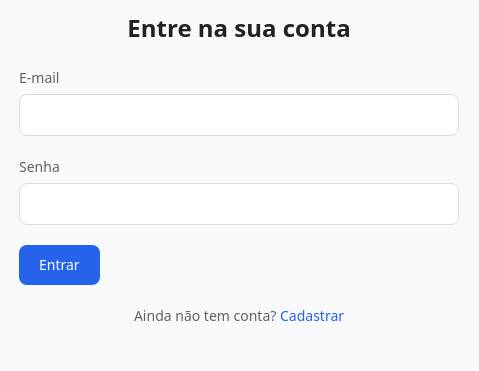
it: LoginForm › shows error on invalid credentials
Type "john@test.com" into the field labelled "E-mail" at {"x": 239, "y": 115}, box [19, 94, 459, 136]
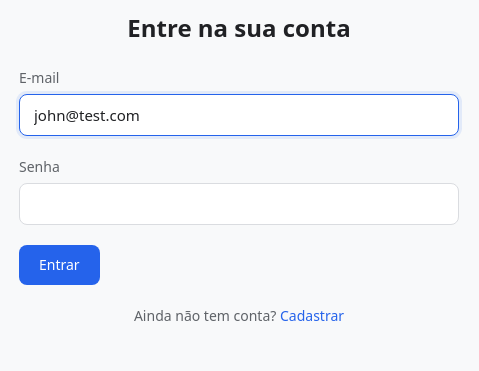
Type "wrong" into the password field labelled "Senha" at {"x": 239, "y": 204}, box [19, 183, 459, 225]
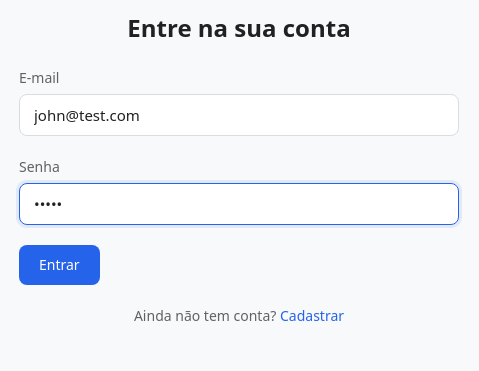
Click the button "Entrar" at {"x": 59, "y": 265}, box [19, 245, 100, 285]
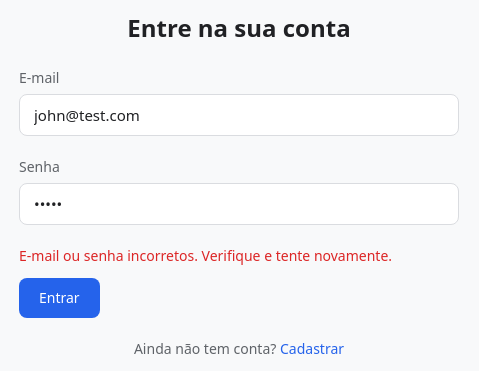
Now the text "E-mail ou senha incorretos. Verifique e tente novamente." is shown, box [19, 246, 392, 265]
